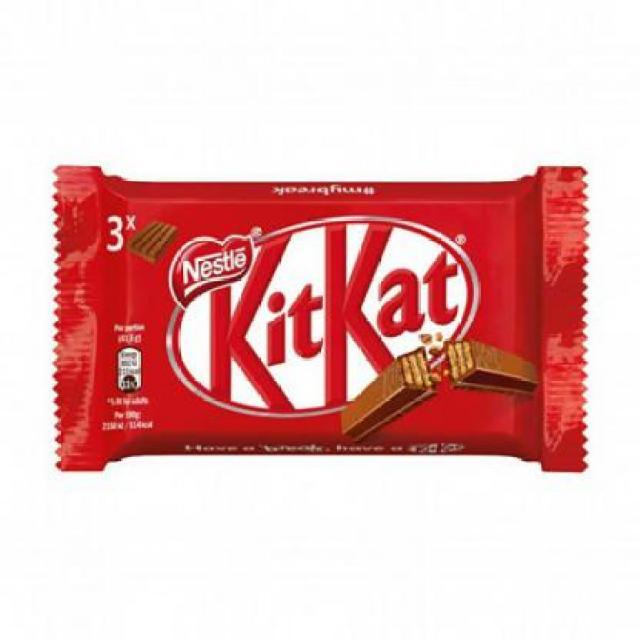Chocolate bar: (43, 160, 592, 478)
